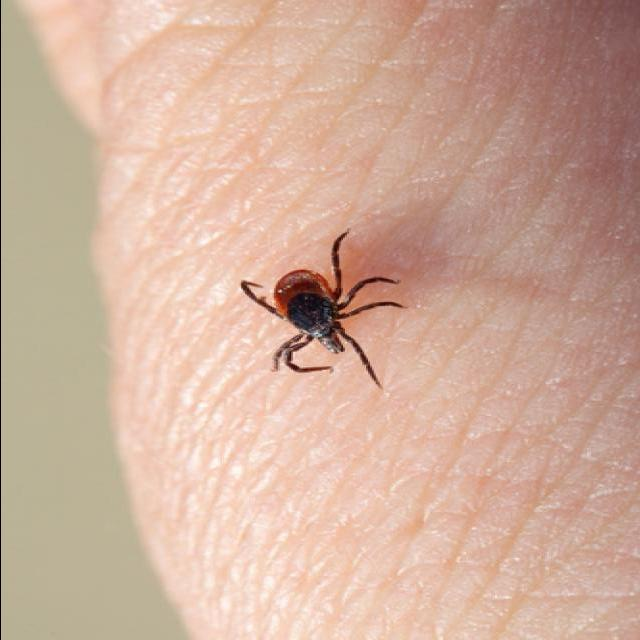Ixodes Ricinus-F: (240, 232, 404, 389)
